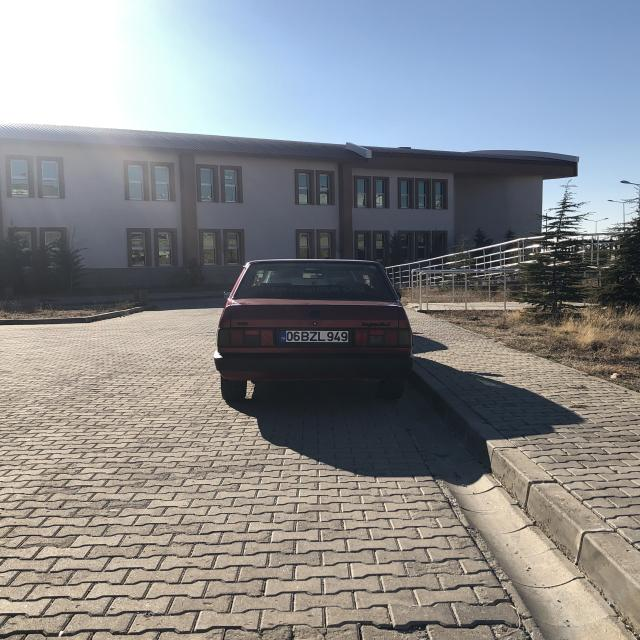license_plate: (278, 330, 349, 343)
